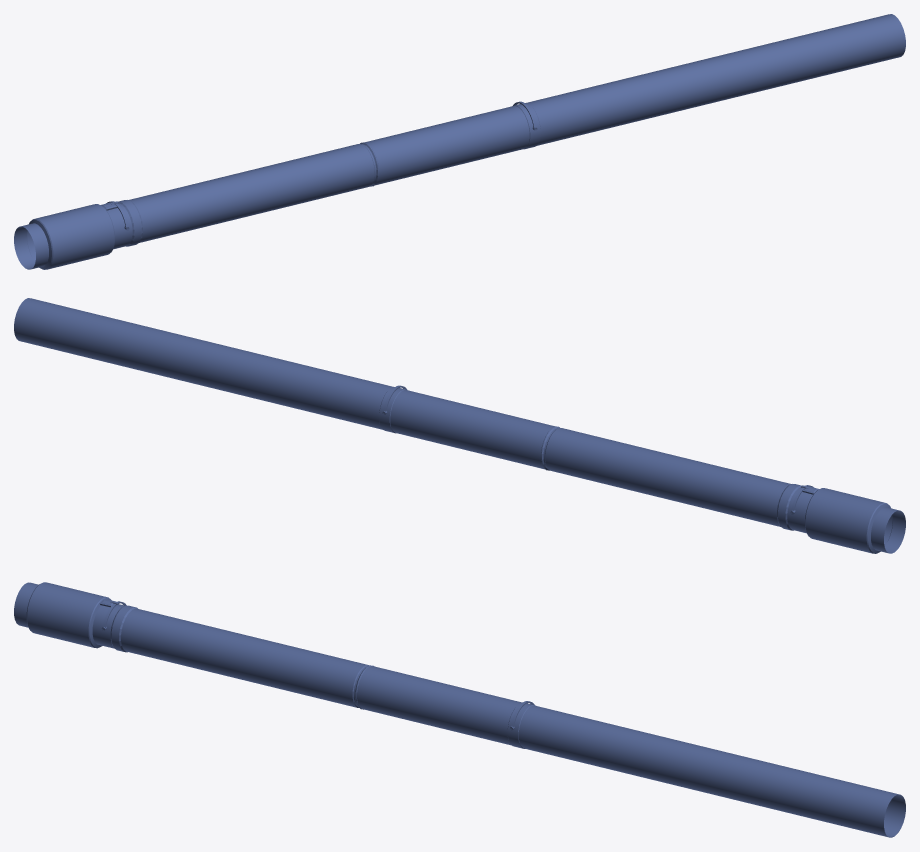
3 views of the same model, one above another, from view 1: azimuth 30°, elevation 25°; view 2: azimuth 150°, elevation 25°; view 3: azimuth 330°, elevation 25° (orthographic).
Visible parts, largest first — view 1: rura_low; view 2: rura_low; view 3: rura_low.
Boxes of the visible parts, box(x1,y1,x2,y2) form: rura_low: box(14, 14, 905, 269); rura_low: box(14, 298, 905, 553); rura_low: box(14, 582, 905, 837).
Bounding box in the file's own units: 616 × 32.26 × 31.92.
